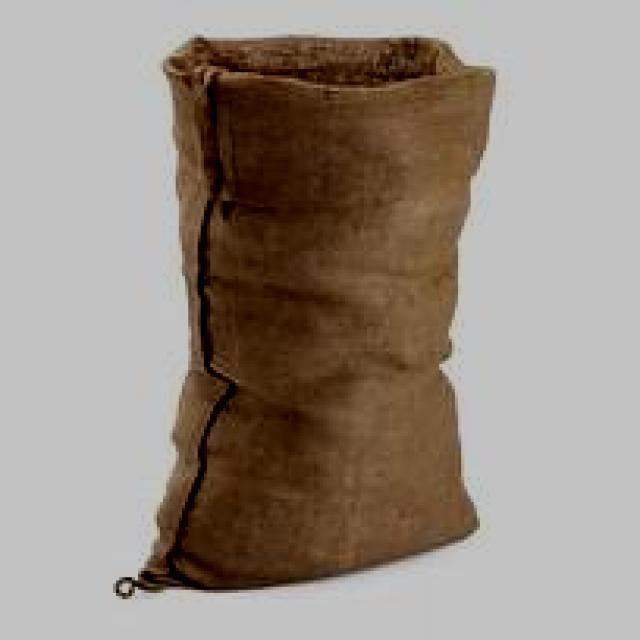gunny_bag: (118, 33, 502, 598)
